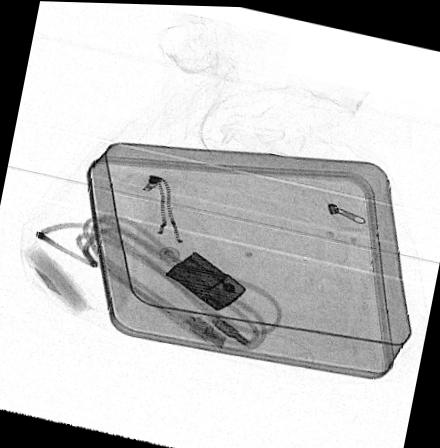Lighter: (165, 249, 247, 310)
